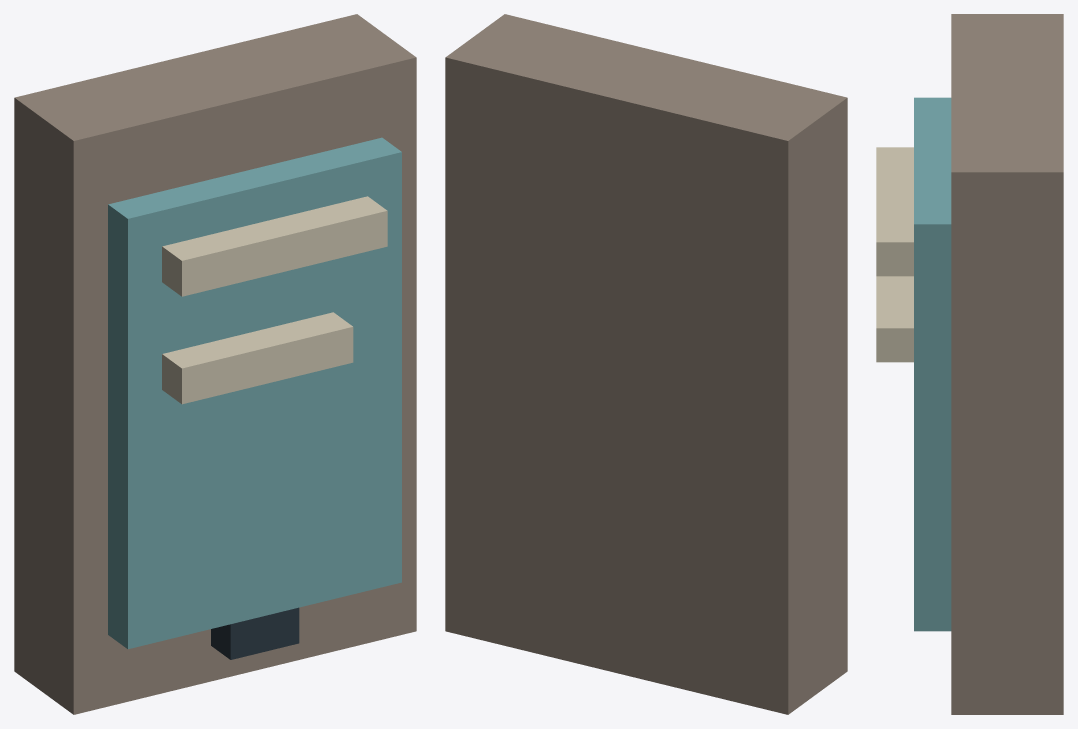
Rendered from photography-07.glb.
3 views of the same model, side by side, from view 1: azimuth 30°, elevation 25°; view 2: azimuth 150°, elevation 25°; view 3: azimuth 270°, elevation 25° (orthographic). The views are drawn at different scales.
Visible parts, largest first — view 1: Editing tablet; view 2: Editing tablet; view 3: Editing tablet.
Boxes of the visible parts, box(x1,y1,x2,y2) form: Editing tablet: box(14, 14, 416, 714); Editing tablet: box(445, 14, 847, 714); Editing tablet: box(876, 14, 1063, 714).
Bounding box in the file's own units: 0.8 × 1.28 × 0.4.
